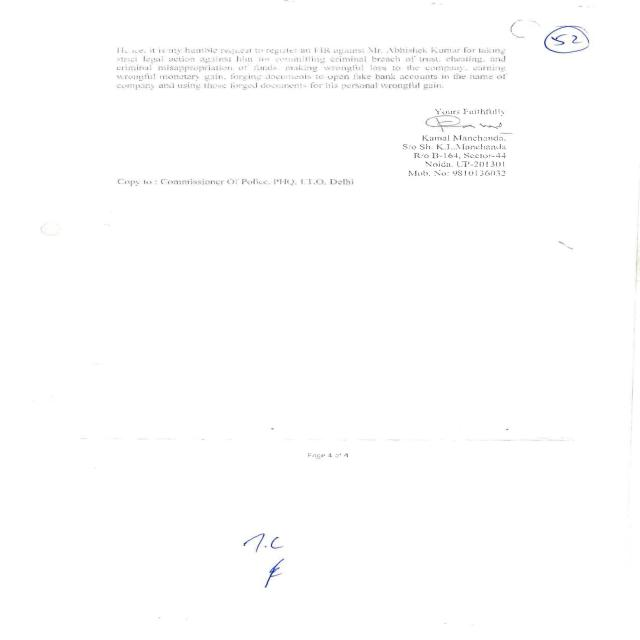page-number: (532, 9, 640, 106)
